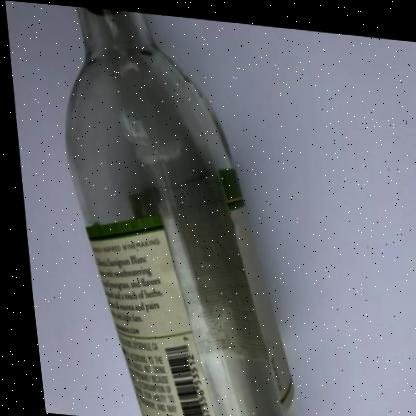Glass: (61, 5, 288, 416)
